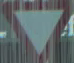Give way: (2, 1, 70, 55)
